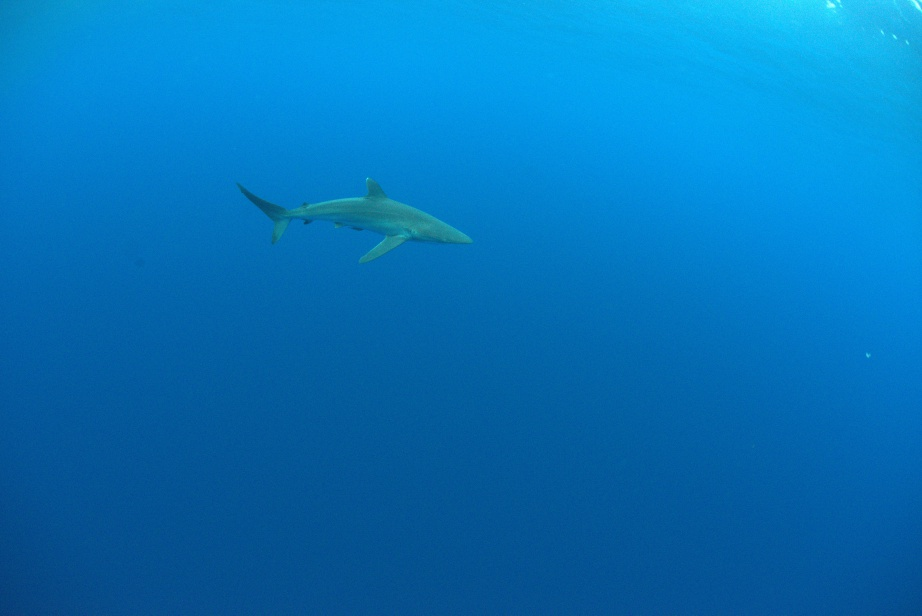Sedoso: (220, 164, 482, 268)
